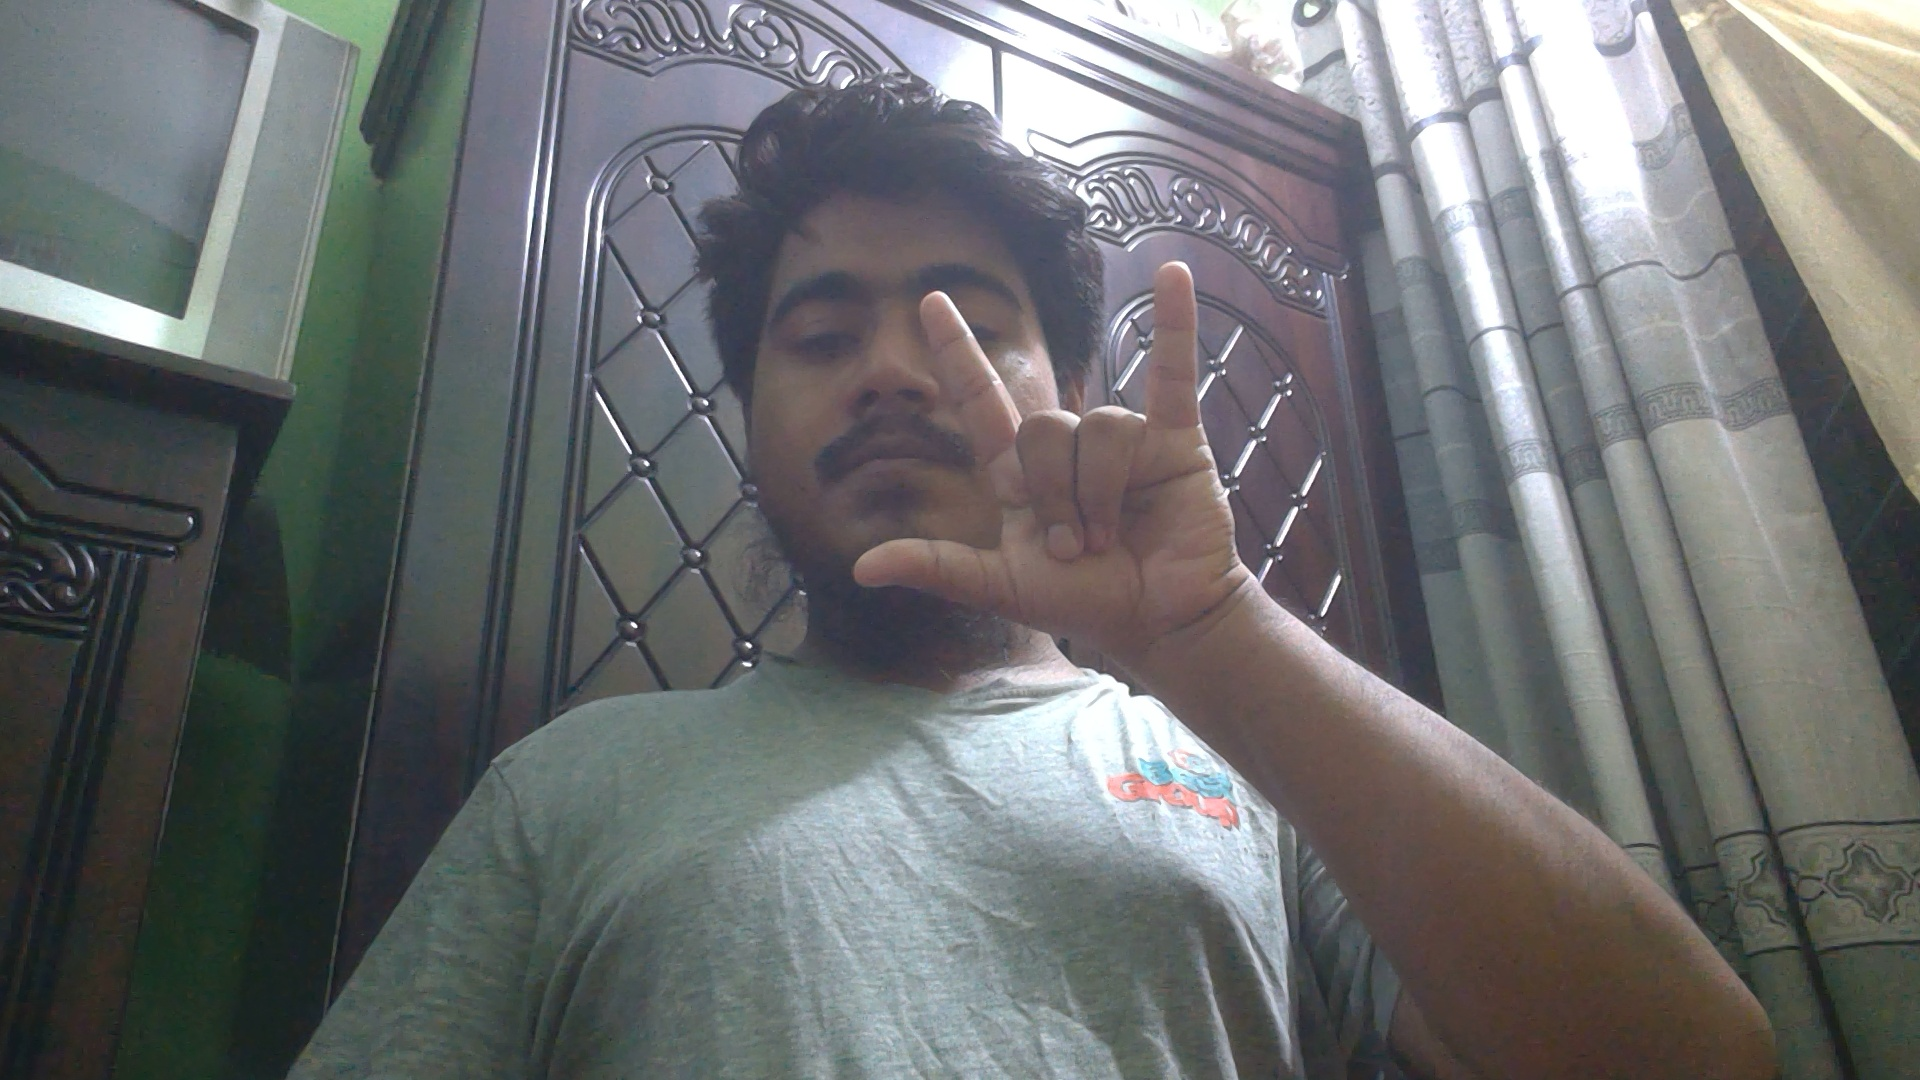Iloveyou: (851, 251, 1255, 695)
